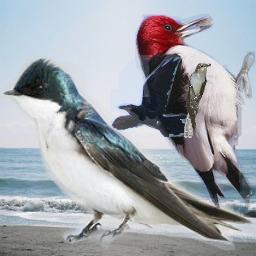Crow: (110, 55, 187, 137)
Cuckoo: (183, 62, 211, 138)
Swallow: (0, 54, 255, 250)
Woodpecker: (135, 14, 255, 208)
